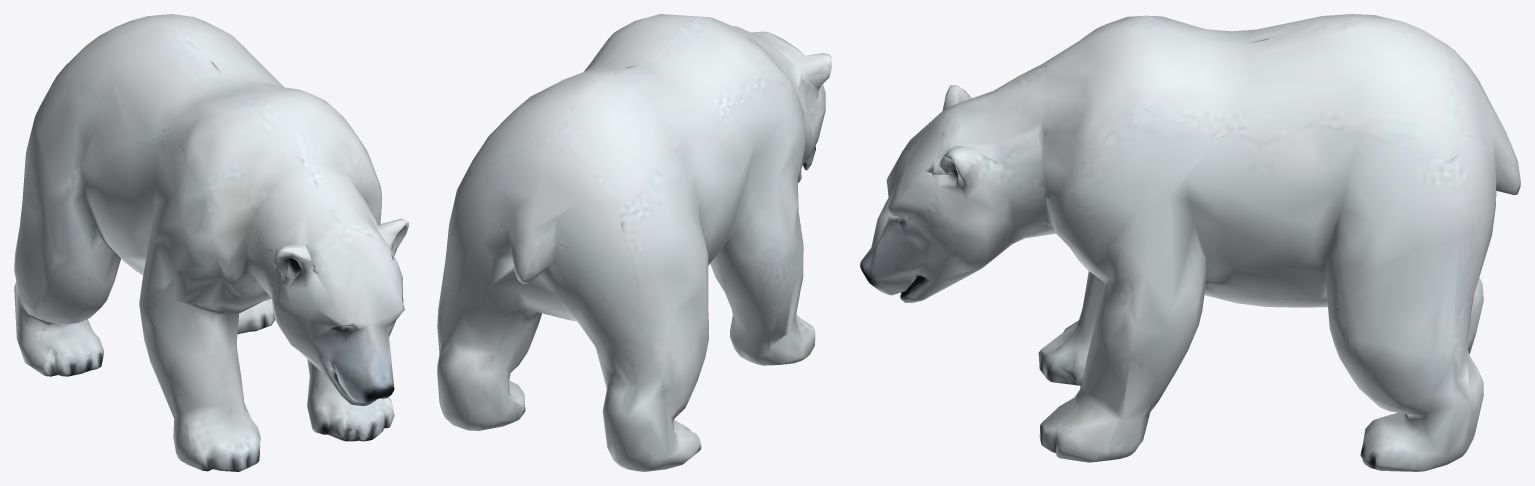
Rendered from bear.glb.
3 renders of one model, left to right at view 1: azimuth 30°, elevation 25°; view 2: azimuth 150°, elevation 25°; view 3: azimuth 270°, elevation 25°, orthographic. The views are drawn at different scales.
Parts seen in each view (by area): view 1: Mesh; view 2: Mesh; view 3: Mesh.
Boxes of the visible parts, box(x1,y1,x2,y2) form: Mesh: box(14, 14, 408, 471); Mesh: box(437, 14, 831, 471); Mesh: box(860, 14, 1520, 471).
Bounding box in the file's own units: 0.9536 × 1.24 × 1.91.
Materials: 1 (1 with a texture image).
